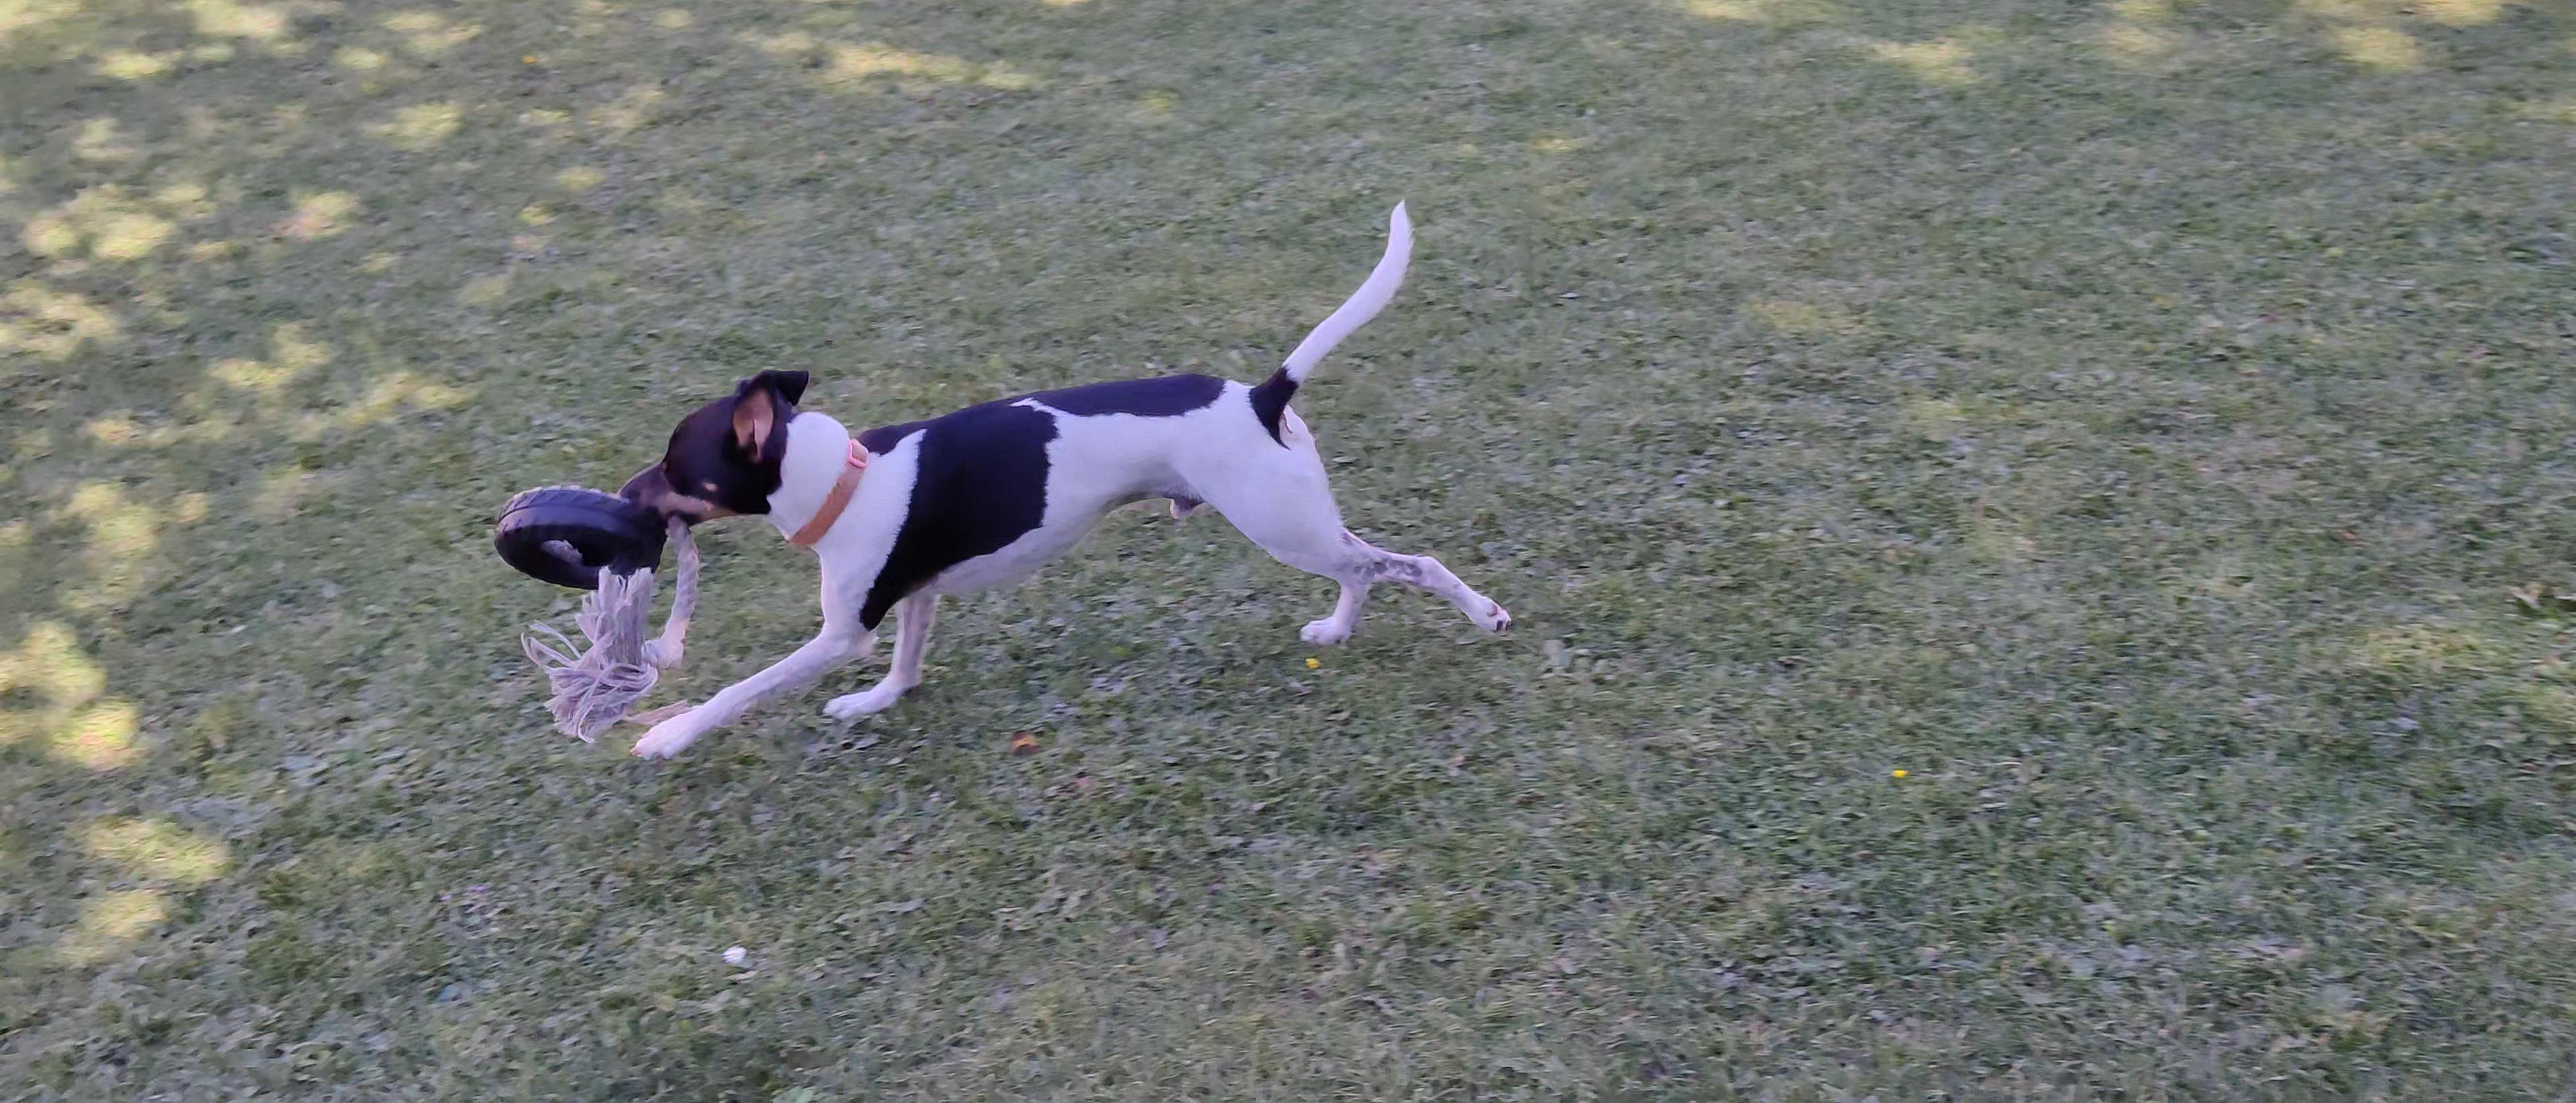Dog: (616, 192, 1526, 768)
